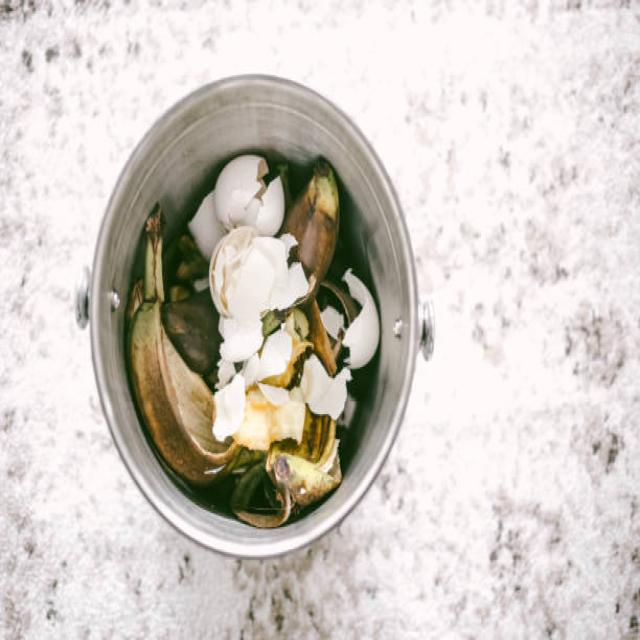trash: (139, 170, 355, 490)
